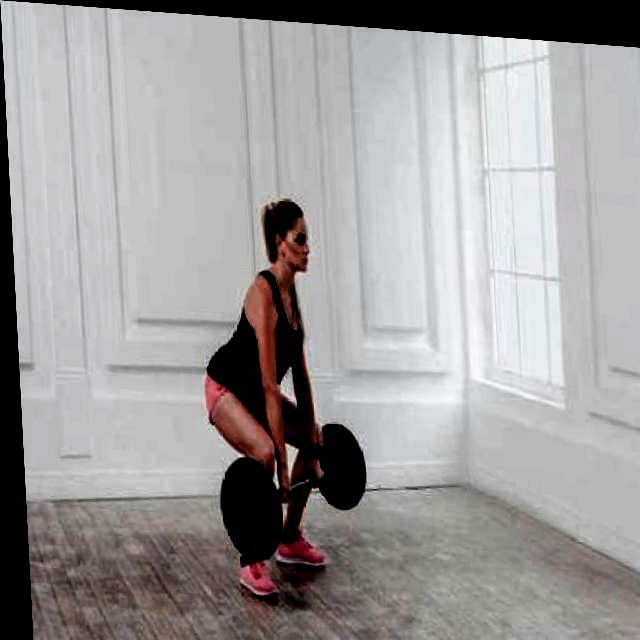barbell: (210, 447, 283, 562)
